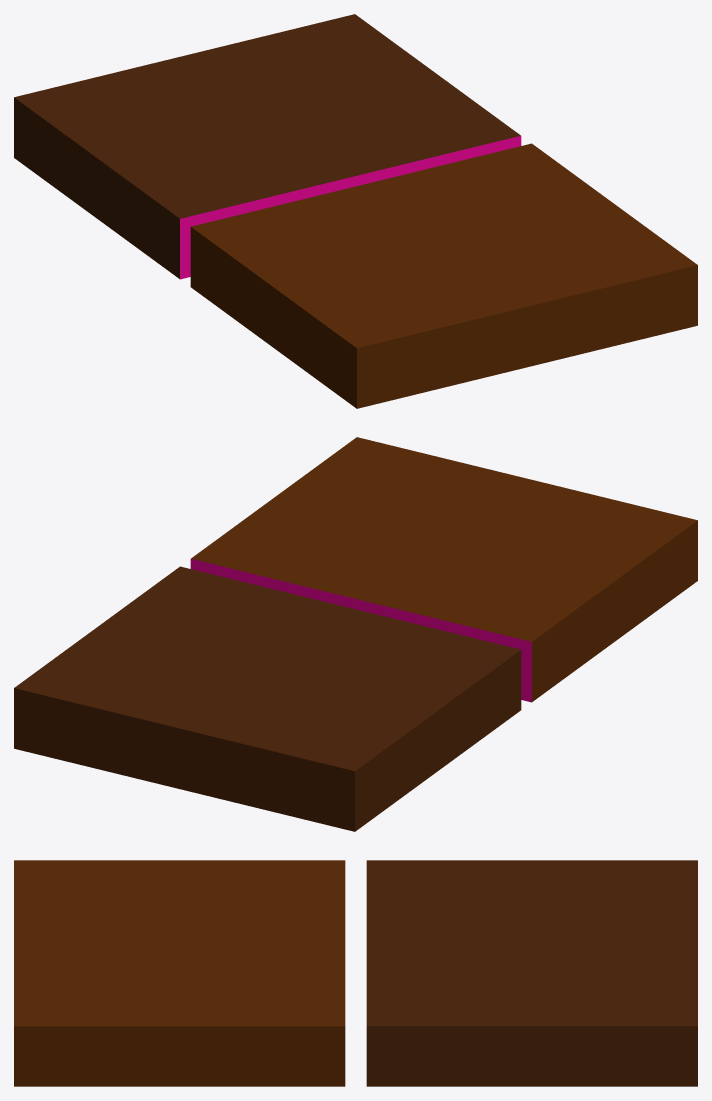
Rendered from kes2.fbx.
The picture shows the model from 3 angles, top to bottom: view 1: azimuth 30°, elevation 25°; view 2: azimuth 150°, elevation 25°; view 3: azimuth 270°, elevation 25°; orthographic projection.
Visible parts, largest first — view 1: Cube.007, Cube.008; view 2: Cube.008, Cube.007; view 3: Cube.007, Cube.008.
Part boxes in pixels (box(x1,y1,x2,y2)): Cube.007: box(190, 143, 697, 408); Cube.008: box(14, 14, 521, 279); Cube.008: box(14, 566, 521, 831); Cube.007: box(190, 437, 697, 702); Cube.007: box(14, 860, 345, 1086); Cube.008: box(366, 860, 697, 1086).
Size of the model in its own units: 200 by 33.96 by 348.
